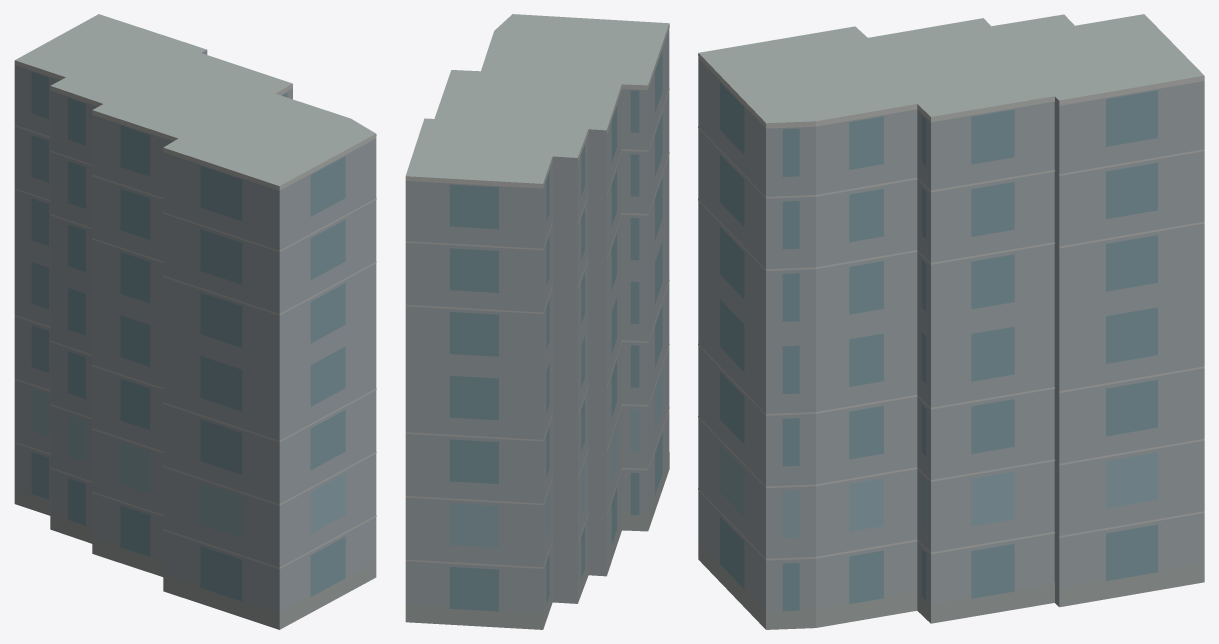
Rendered from survey-upis-32570803.glb.
The picture shows the model from 3 angles, left to right: view 1: azimuth 30°, elevation 25°; view 2: azimuth 150°, elevation 25°; view 3: azimuth 270°, elevation 25°; orthographic projection. The views are drawn at different scales.
Parts seen in each view (by area): view 1: survey-upis-32570803.tmp; view 2: survey-upis-32570803.tmp; view 3: survey-upis-32570803.tmp.
Part boxes in pixels (x1,y1,x2,y2): survey-upis-32570803.tmp: (14,14,376,629); survey-upis-32570803.tmp: (405,14,669,629); survey-upis-32570803.tmp: (698,14,1204,629).
Size of the model in its own units: 10.71 by 23.1 by 20.94.
